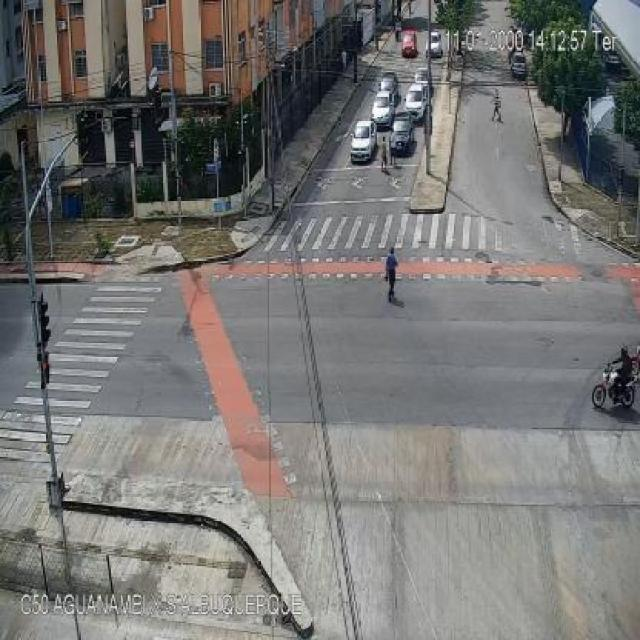Car: (350, 117, 379, 163), (390, 112, 414, 152), (370, 91, 394, 125), (376, 70, 397, 98), (426, 32, 442, 57), (512, 52, 526, 75)
Cycle: (592, 344, 638, 410)
Van: (402, 84, 426, 120), (400, 28, 418, 57)
